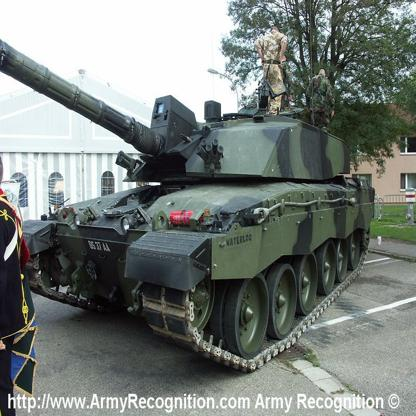Tank: (1, 37, 385, 371)
